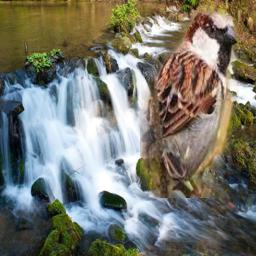Sparrow: (140, 3, 239, 198)
